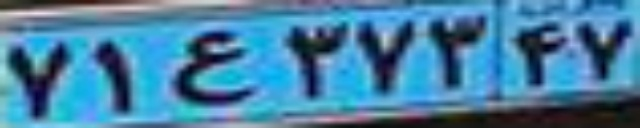1: (90, 39, 134, 111)
3: (286, 19, 353, 99), (427, 11, 491, 87)
4: (516, 22, 568, 87)
7: (5, 40, 75, 118), (353, 18, 415, 95), (579, 17, 636, 82)
ain: (163, 31, 254, 103)
